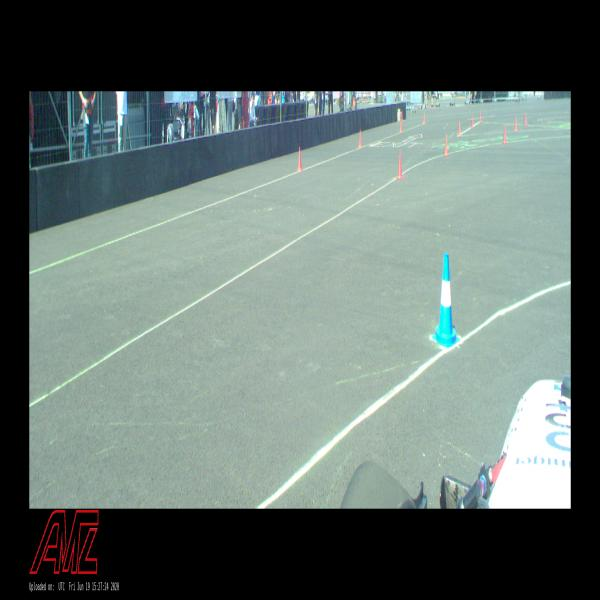blue_cone: (432, 252, 460, 348)
unknown_cone: (396, 152, 404, 179), (297, 147, 303, 171), (443, 134, 449, 157), (502, 125, 508, 144), (358, 130, 362, 148), (514, 116, 518, 132), (458, 121, 462, 136), (524, 111, 527, 126), (471, 115, 474, 128), (479, 111, 482, 122), (423, 111, 425, 124), (400, 119, 402, 132)
